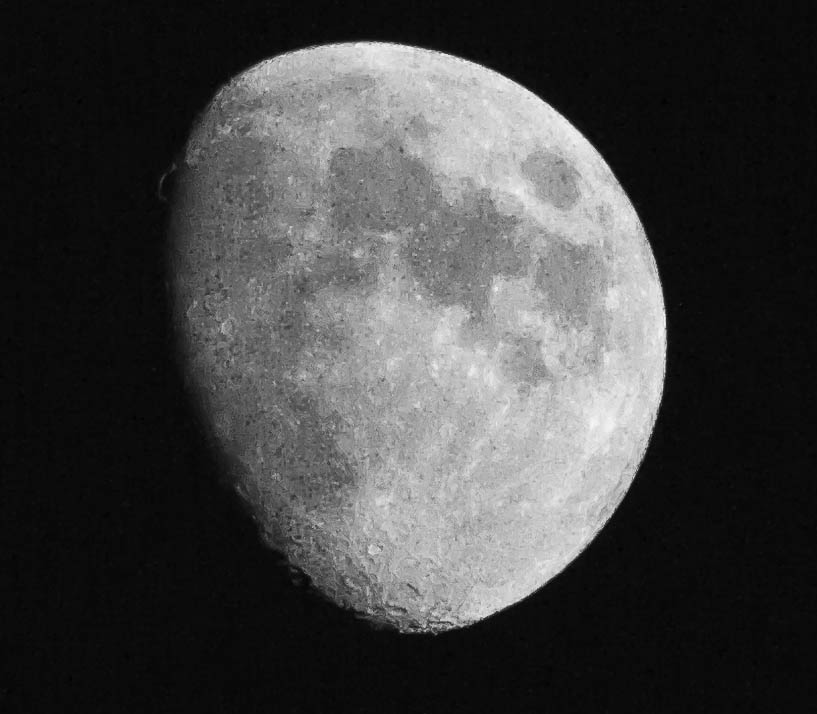crater: (362, 536, 390, 566)
